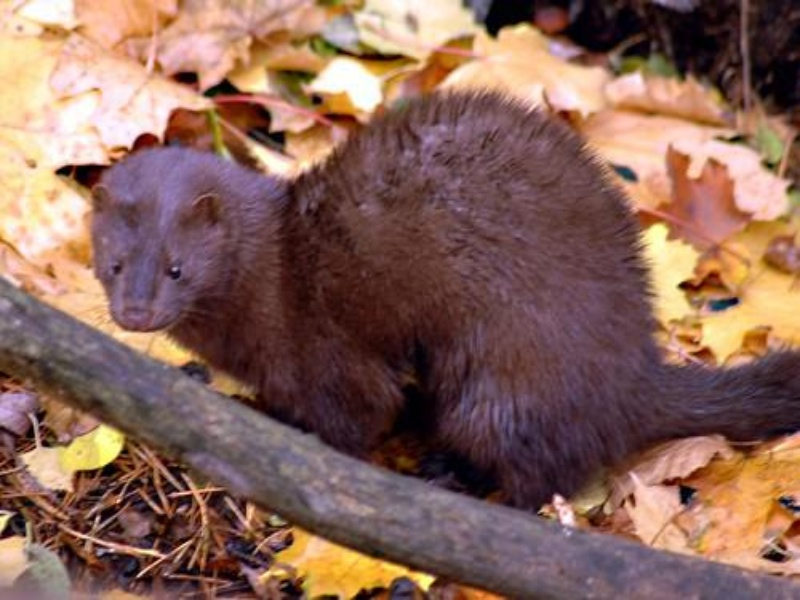minkish: (85, 84, 797, 517)
